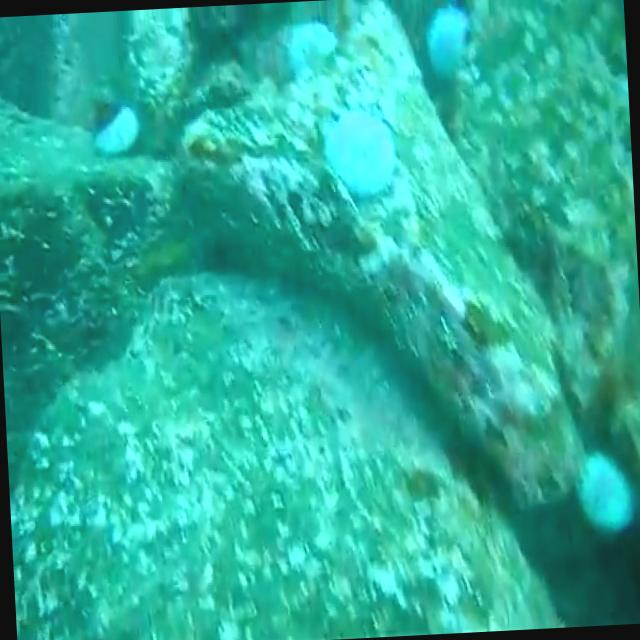Deniz Kestanesi: (321, 90, 399, 202), (425, 1, 472, 81)
